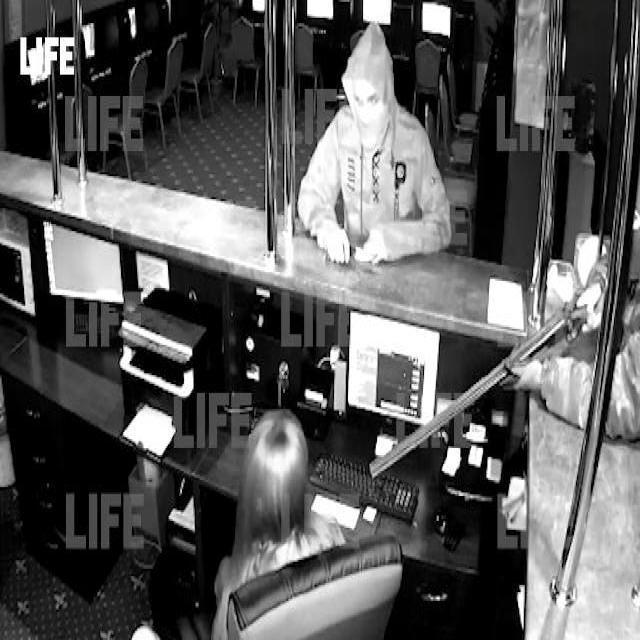pistol: (366, 290, 595, 488)
